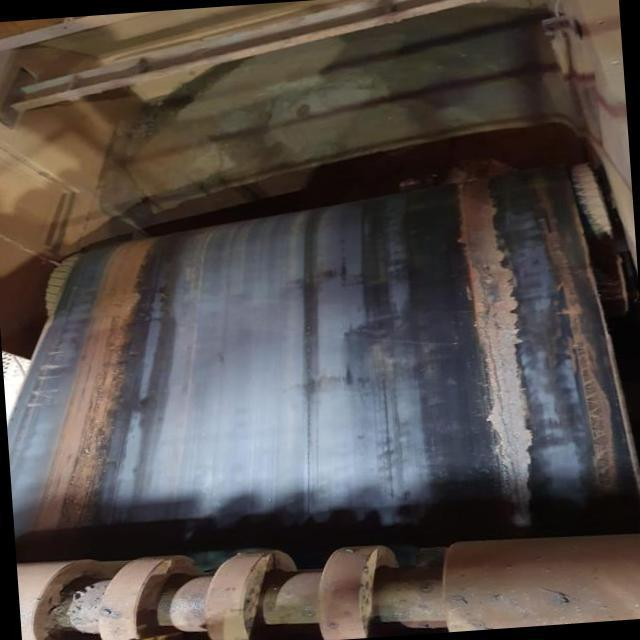Wear: (16, 235, 172, 540), (519, 172, 625, 510), (444, 174, 540, 528)
